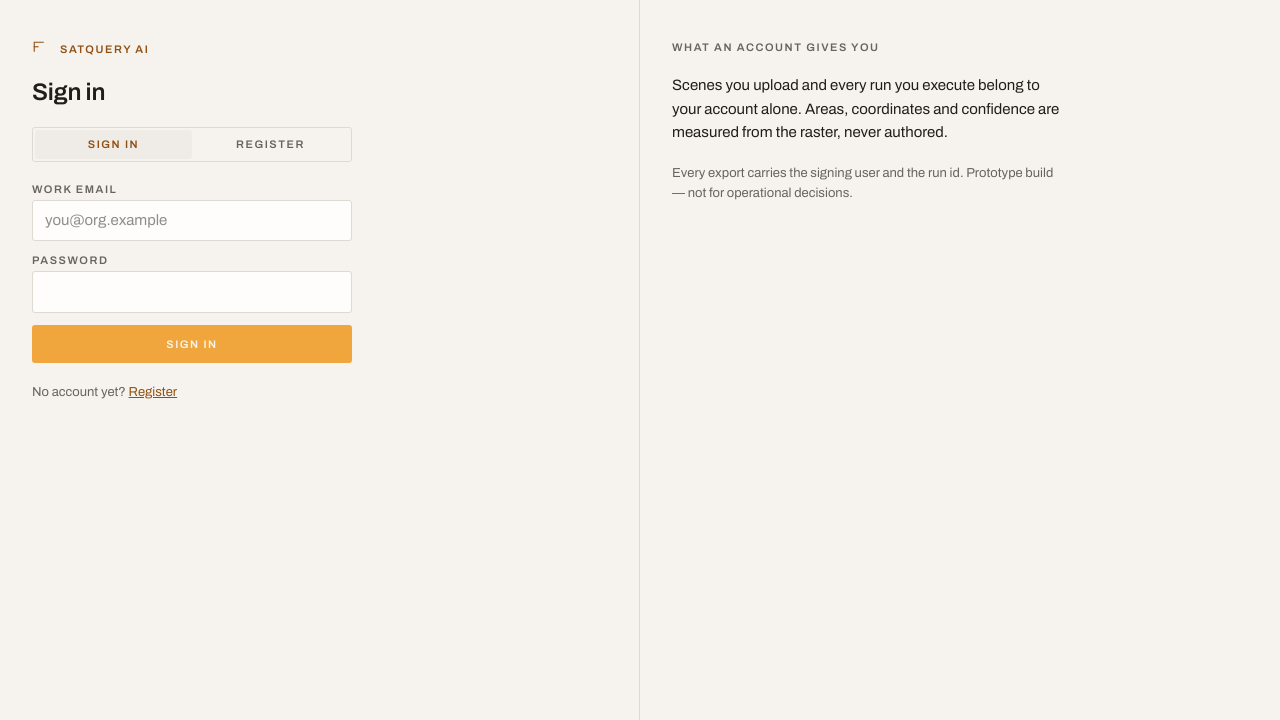
signing in › rejects a malformed email before contacting the backend
The width and height of the screenshot is (1280, 720).
Type "not-an-email" into the field labelled "Work email". click: point(192, 221)
box: x1=32 y1=200 x2=352 y2=241
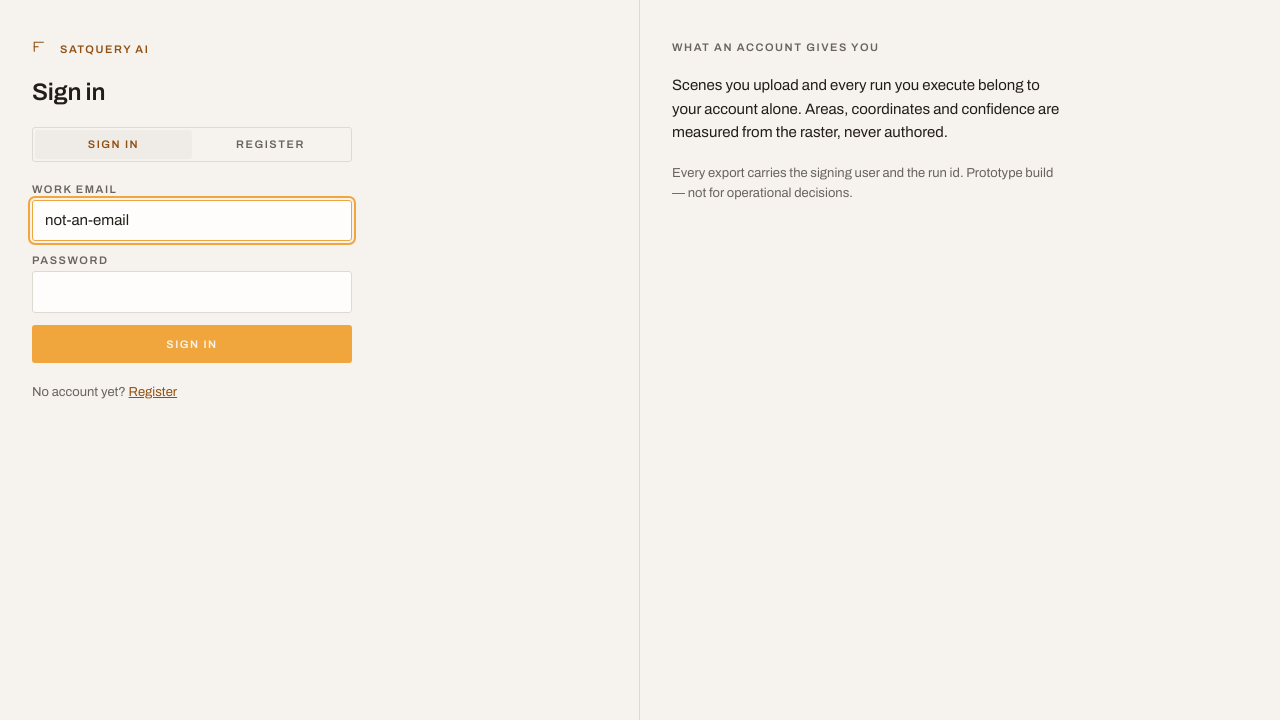
Type "correct-horse-battery" into the password field labelled "Password". click: point(192, 292)
box: x1=32 y1=271 x2=352 y2=313
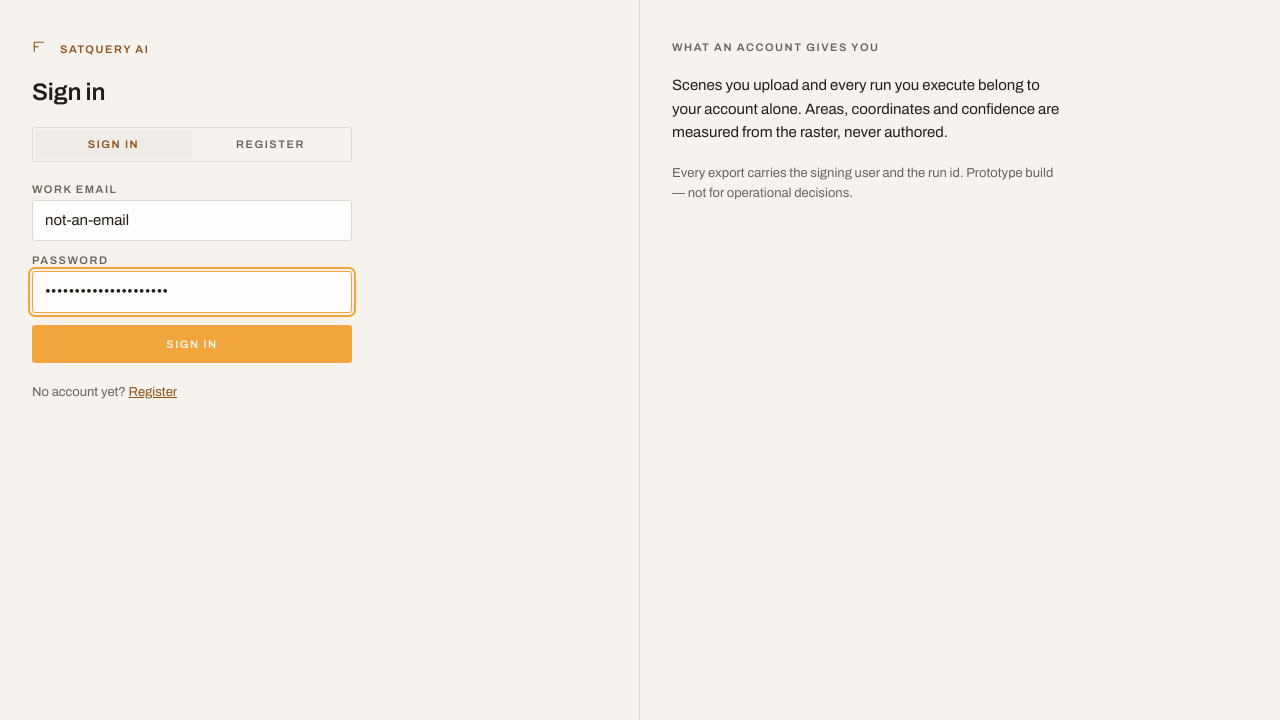
Click the button "Sign in". click: point(192, 344)
box: x1=32 y1=325 x2=352 y2=363
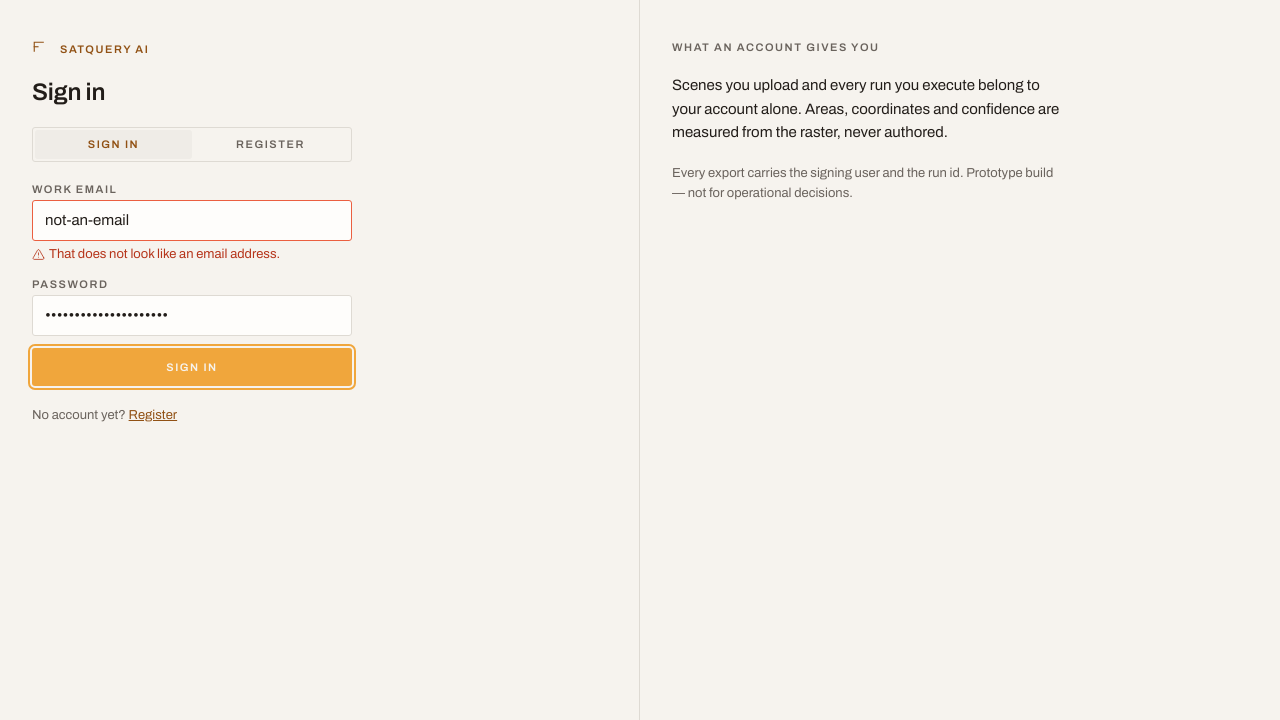
Now the text "That does not look like an email address." is shown, box x1=32 y1=247 x2=280 y2=261
